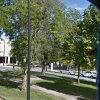Tree: (7, 2, 100, 91)
